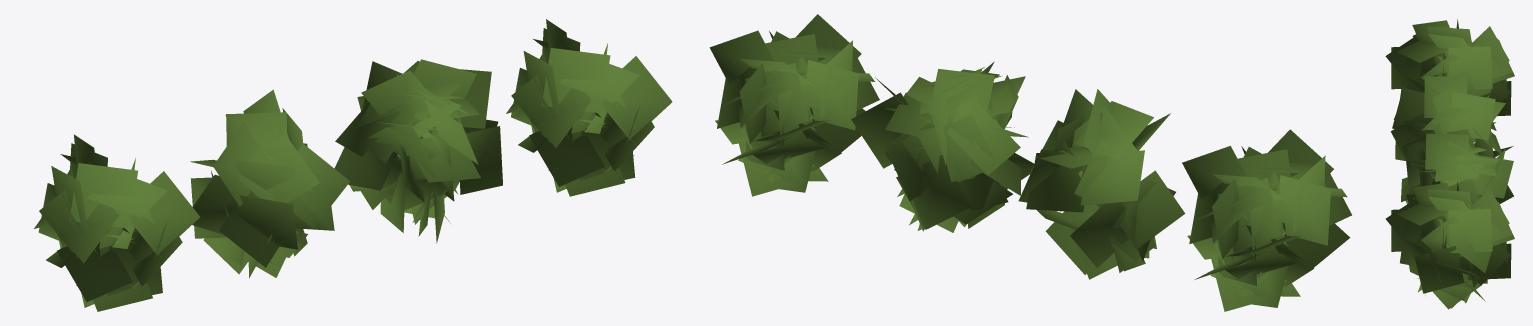
Rendered from niceBushes.glb.
The picture shows the model from 3 angles, left to right: view 1: azimuth 30°, elevation 25°; view 2: azimuth 150°, elevation 25°; view 3: azimuth 270°, elevation 25°; orthographic projection. The views are drawn at different scales.
Parts seen in each view (by area): view 1: BushB, BushA, BushC, BushC_Left; view 2: BushC_Left, BushC, BushB, BushA; view 3: BushC, BushC_Left, BushA, BushB.
Boxes of the visible parts, left/top/right/bottom form: BushB: left=334, top=59, right=502, bottom=243; BushA: left=190, top=89, right=349, bottom=278; BushC: left=506, top=19, right=672, bottom=196; BushC_Left: left=34, top=134, right=199, bottom=311; BushC_Left: left=1182, top=129, right=1351, bottom=311; BushC: left=709, top=14, right=879, bottom=196; BushB: left=851, top=61, right=1034, bottom=232; BushA: left=1018, top=89, right=1185, bottom=279; BushC: left=1385, top=182, right=1514, bottom=309; BushC_Left: left=1385, top=19, right=1514, bottom=116; BushA: left=1391, top=73, right=1513, bottom=161; BushB: left=1401, top=132, right=1513, bottom=204.
Size of the model in its own units: 23.98 by 6.67 by 6.23.
